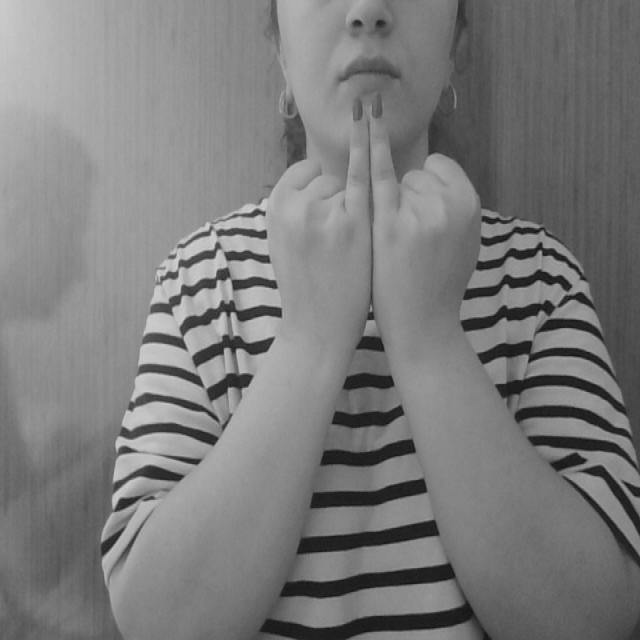Kardes: (262, 85, 488, 335)
